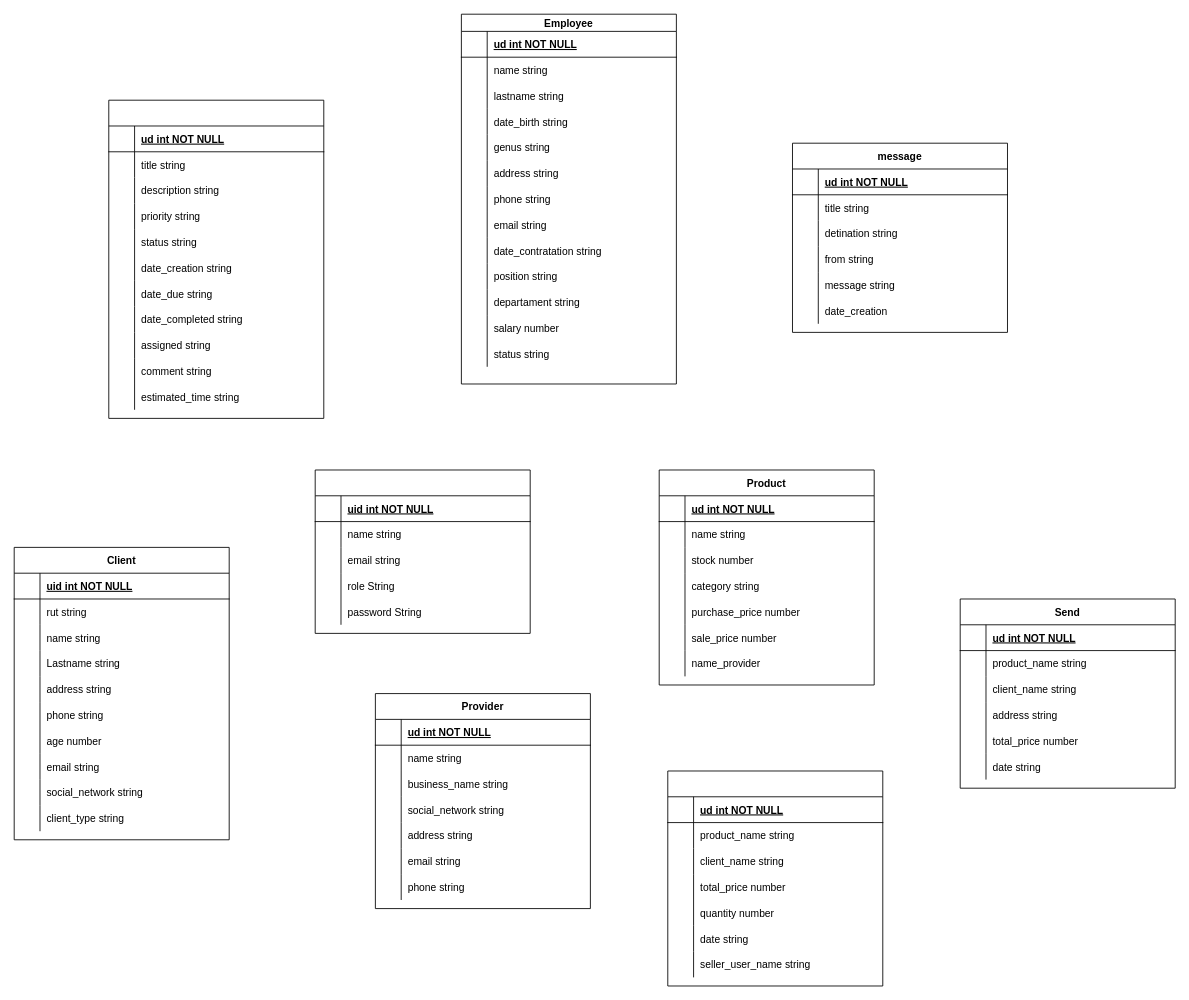
This 1189x1000 diagram has some shape labels left out. Each missing label, with the box of its shape:
Sale: (667, 770, 883, 986)
Task: (108, 99, 324, 418)
User: (314, 469, 530, 633)
